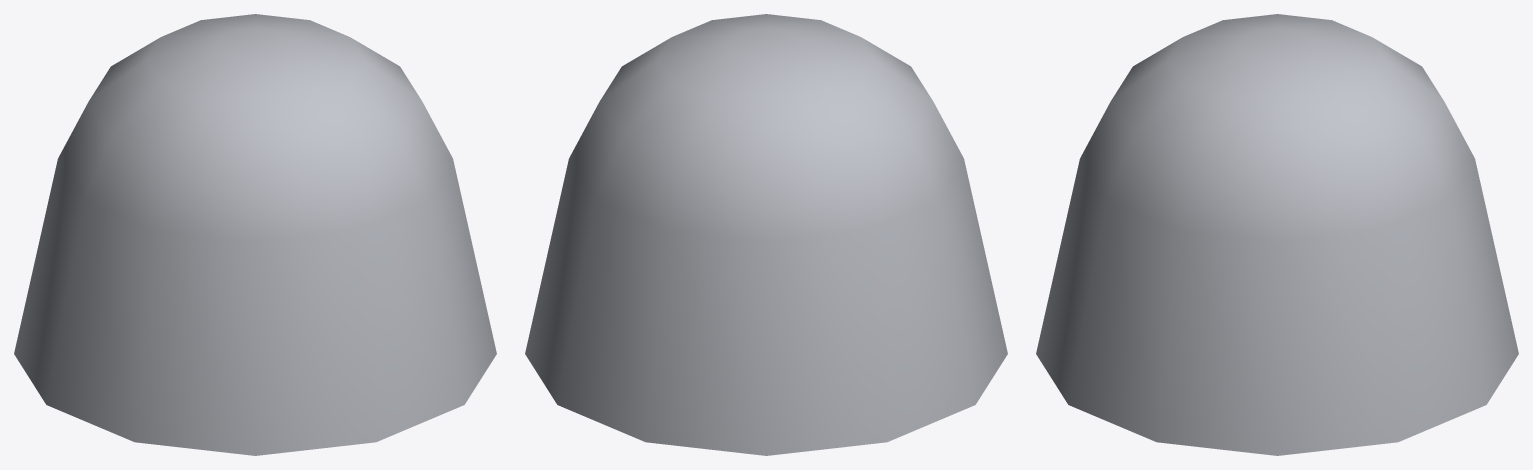
File: Rock_A.fbx
3 views of the same model, side by side, from view 1: azimuth 30°, elevation 25°; view 2: azimuth 150°, elevation 25°; view 3: azimuth 270°, elevation 25° (orthographic).
Visible parts, largest first — view 1: Rock_A; view 2: Rock_A; view 3: Rock_A.
Part boxes in pixels (x1=…): Rock_A: x1=14, y1=14, x2=496, y2=455; Rock_A: x1=525, y1=14, x2=1007, y2=455; Rock_A: x1=1036, y1=14, x2=1518, y2=455.
Size of the model in its own units: 85.92 by 60.66 by 85.92.
